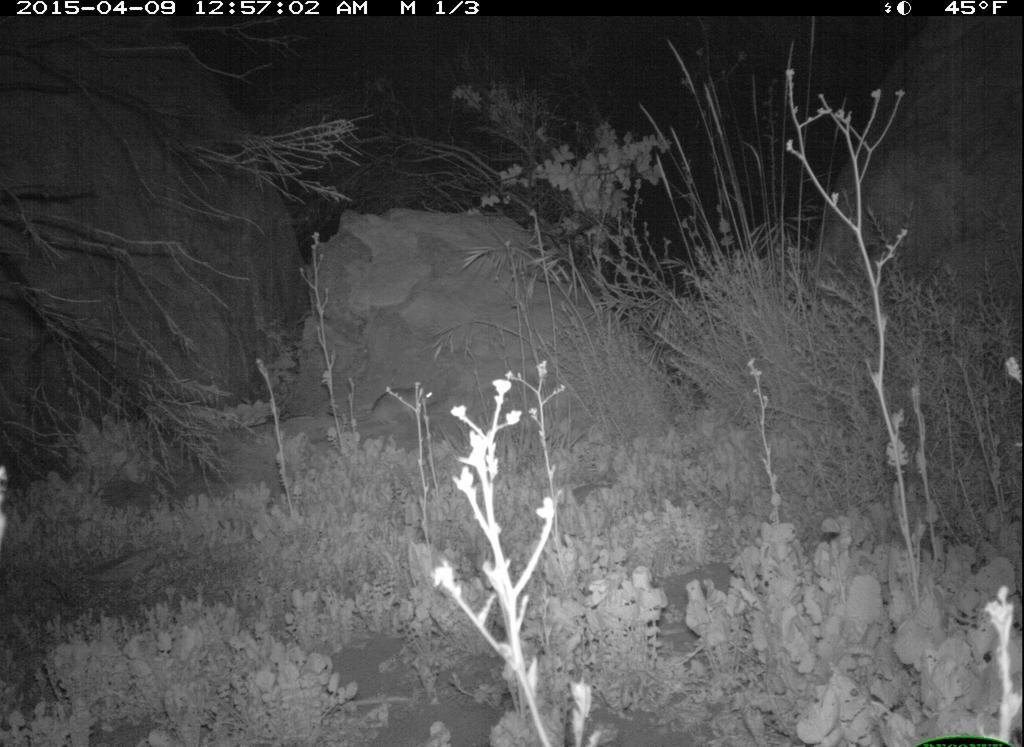rodent: (318, 385, 446, 439)
